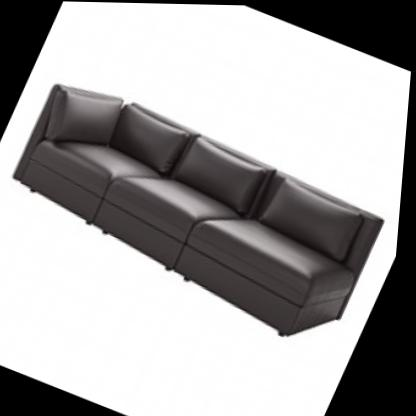Sofa: (0, 48, 413, 369)
